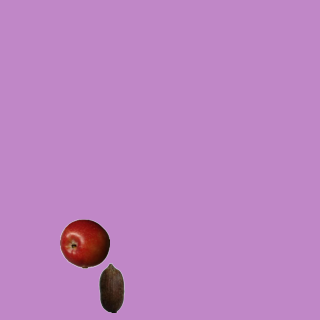Apple Braeburn: (59, 218, 109, 268)
Nut Pecan: (86, 262, 136, 312)
